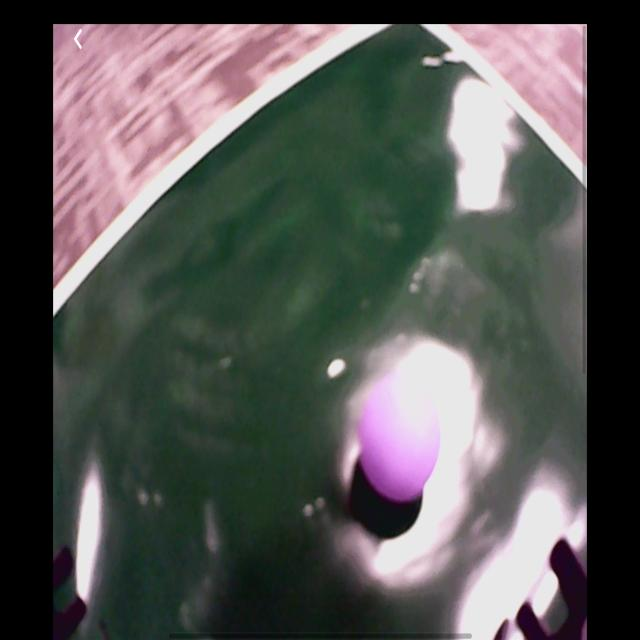ball: (357, 376, 442, 501)
